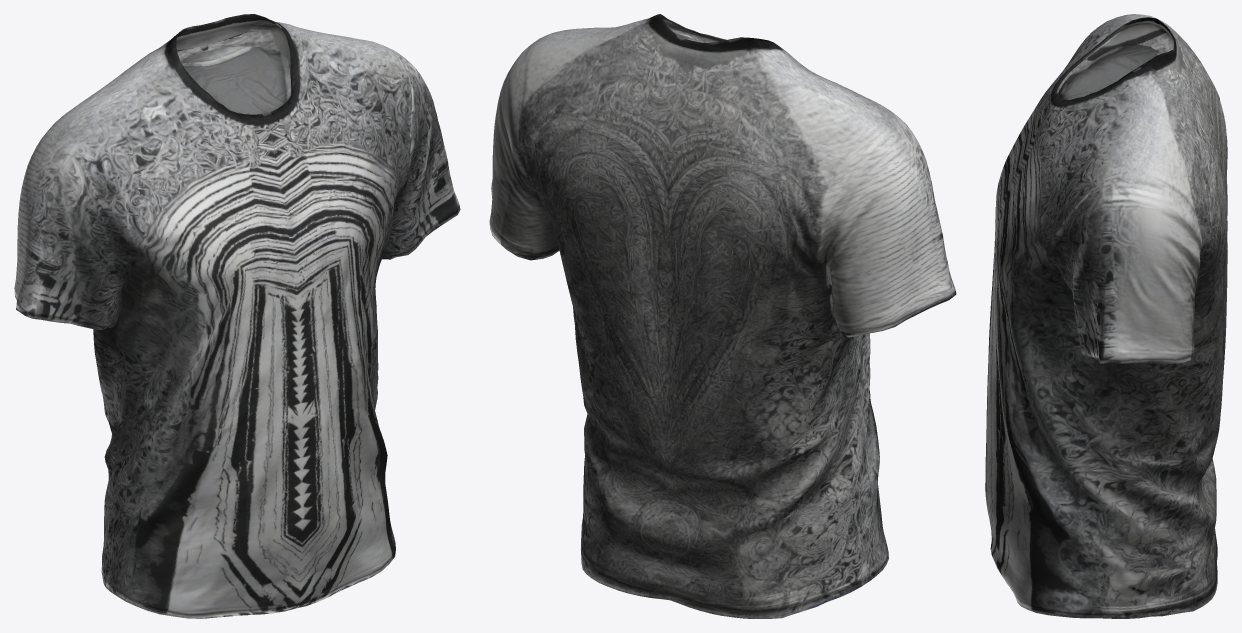
Rendered from shirt8.glb.
3 views of the same model, side by side, from view 1: azimuth 30°, elevation 25°; view 2: azimuth 150°, elevation 25°; view 3: azimuth 270°, elevation 25° (orthographic). The views are drawn at different scales.
Size of the model in its own units: 1.75 by 2.01 by 0.8348.
Materials: 1 (1 with a texture image).
